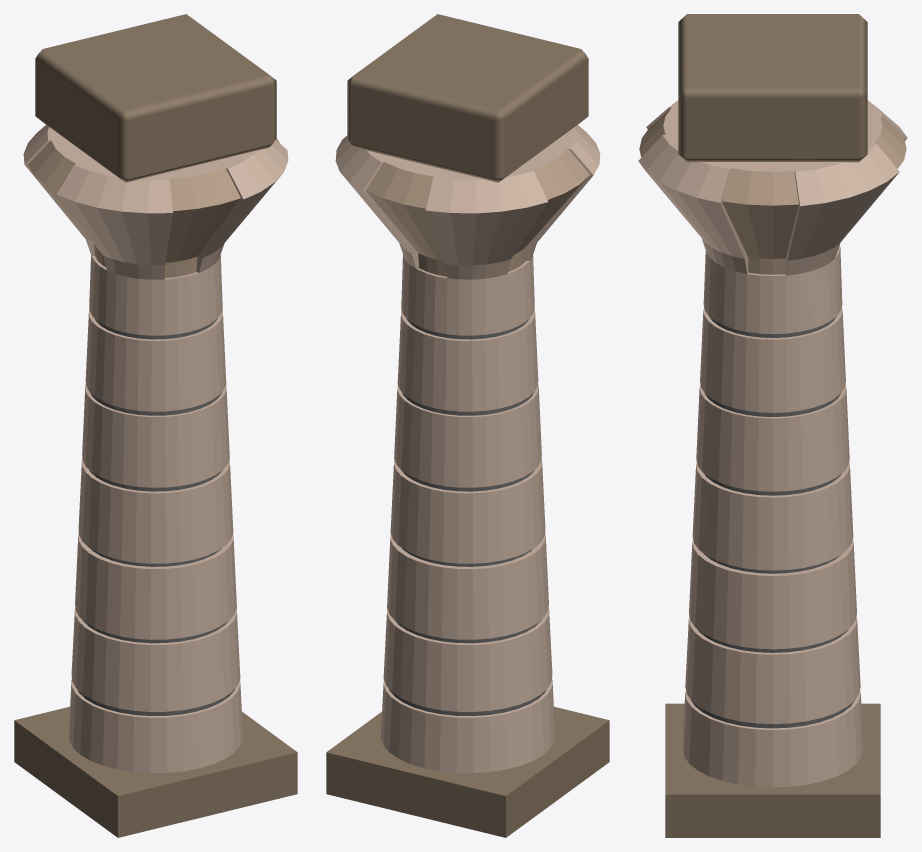
The model's file is pillars.fbx.
The picture shows the model from 3 angles, left to right: view 1: azimuth 30°, elevation 25°; view 2: azimuth 150°, elevation 25°; view 3: azimuth 270°, elevation 25°; orthographic projection. The views are drawn at different scales.
Parts seen in each view (by area): view 1: pillar; view 2: pillar; view 3: pillar.
Part boxes in pixels (box(x1,y1,x2,y2)): pillar: box(14, 14, 297, 837); pillar: box(326, 14, 609, 837); pillar: box(638, 14, 907, 837).
Bounding box in the file's own units: 15.83 × 15.83 × 48.13.
